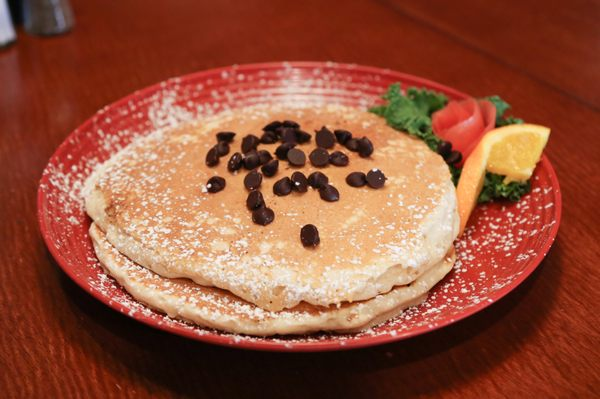curry: (2, 2, 594, 392)
sushi: (85, 101, 462, 336)
